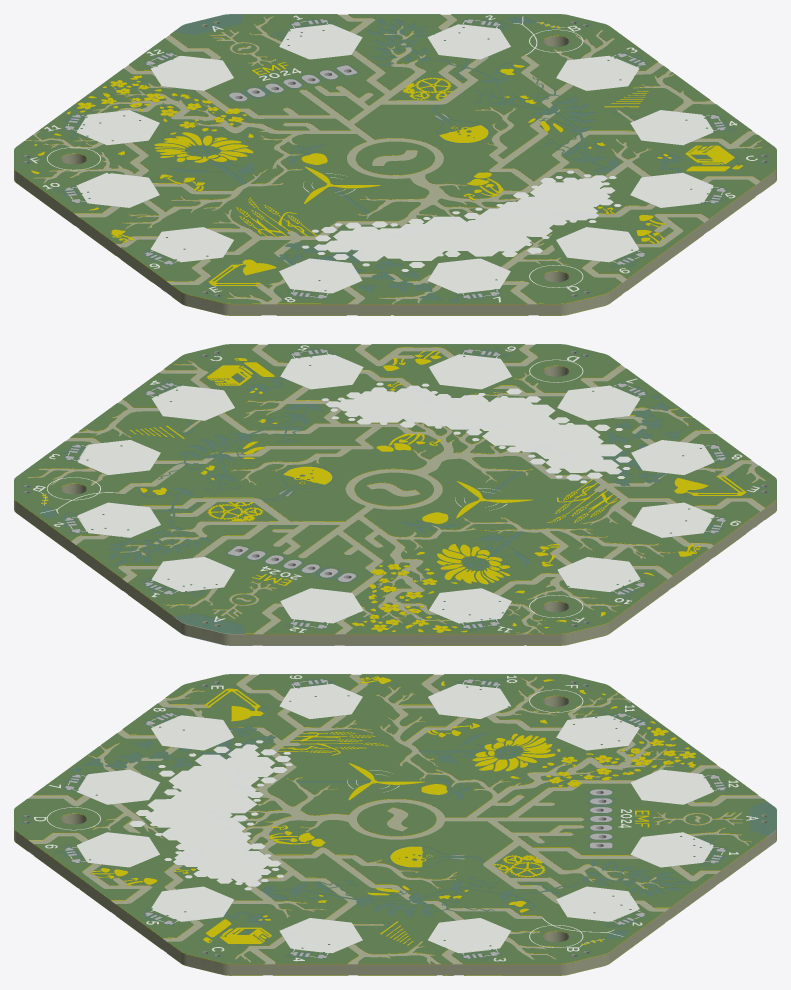
The model's file is tildagon-emf-camp-2024-badge.glb.
3 views of the same model, one above another, from view 1: azimuth 30°, elevation 25°; view 2: azimuth 150°, elevation 25°; view 3: azimuth 270°, elevation 25° (orthographic).
Visible parts, largest first — view 1: =>[0:1:1:7], =>[0:1:1:2], =>[0:1:1:5], =>[0:1:1:9]; view 2: =>[0:1:1:7], =>[0:1:1:2], =>[0:1:1:5], =>[0:1:1:9]; view 3: =>[0:1:1:7], =>[0:1:1:2], =>[0:1:1:5], =>[0:1:1:9].
Boxes of the visible parts, x1=… form: =>[0:1:1:7]: x1=14, y1=14, x2=776, y2=315; =>[0:1:1:2]: x1=14, y1=14, x2=776, y2=315; =>[0:1:1:5]: x1=30, y1=15, x2=757, y2=302; =>[0:1:1:9]: x1=14, y1=14, x2=776, y2=315; =>[0:1:1:7]: x1=14, y1=344, x2=776, y2=645; =>[0:1:1:2]: x1=14, y1=344, x2=776, y2=645; =>[0:1:1:5]: x1=33, y1=345, x2=759, y2=632; =>[0:1:1:9]: x1=14, y1=344, x2=776, y2=645; =>[0:1:1:7]: x1=14, y1=674, x2=776, y2=975; =>[0:1:1:2]: x1=14, y1=674, x2=767, y2=975; =>[0:1:1:5]: x1=34, y1=675, x2=758, y2=961; =>[0:1:1:9]: x1=14, y1=674, x2=776, y2=975.
Size of the model in its own units: 0.0831 by 0.00166 by 0.0925.
4 materials, 4 textured.
